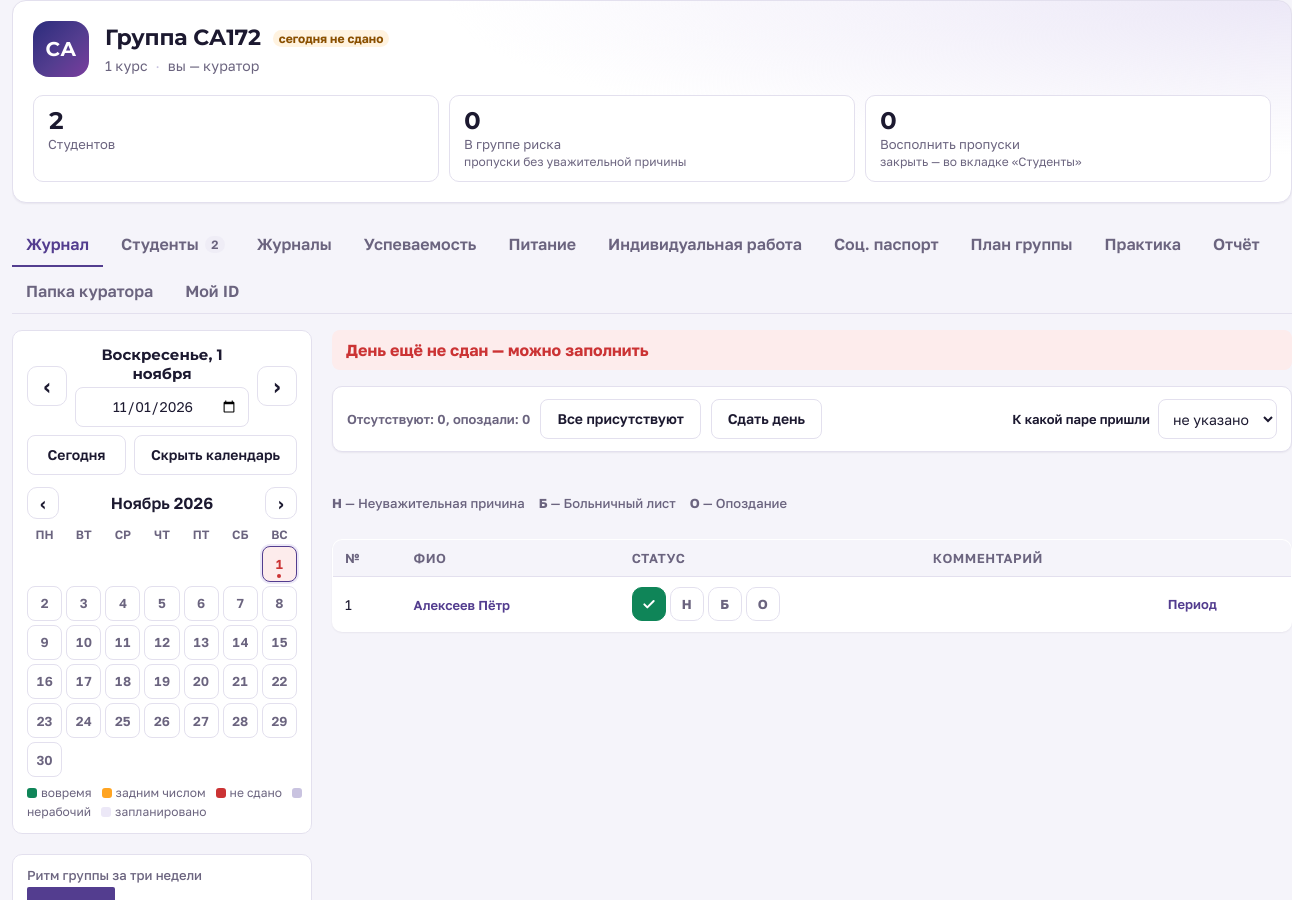
CuratorGroupPage — журнал дня › снятая отметка («Я») убирает студента из отсутствующих
Expected: the link "Алексеев Пётр" is shown, [410,595,514,615]
Click the button "Б": (725, 604) [708,587,742,621]
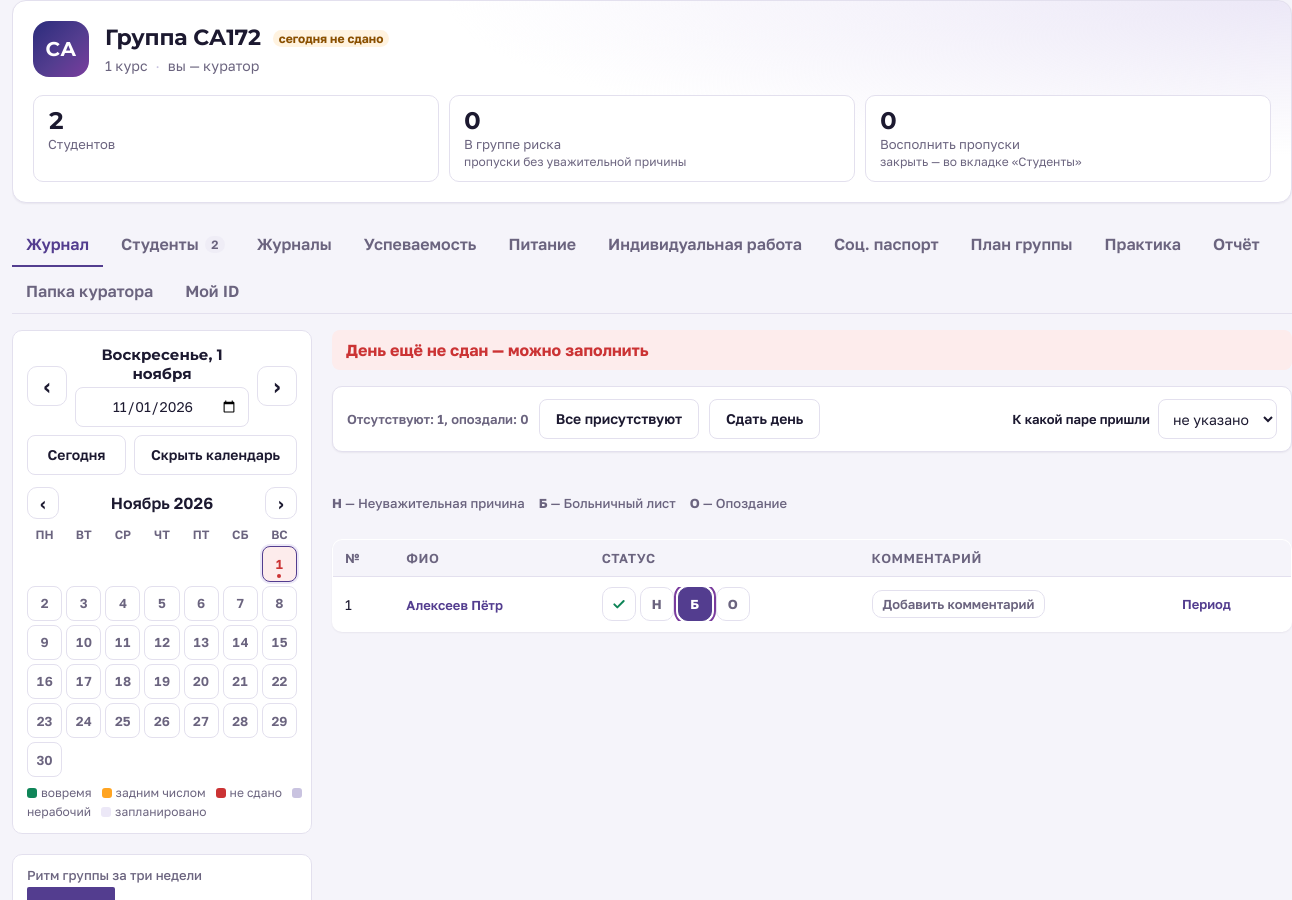
Expected: the text "Отсутствуют: 1, опоздали: 0" is shown, [347,411,529,427]
Click the button named "Присутствует": (619, 604) [602,587,636,621]
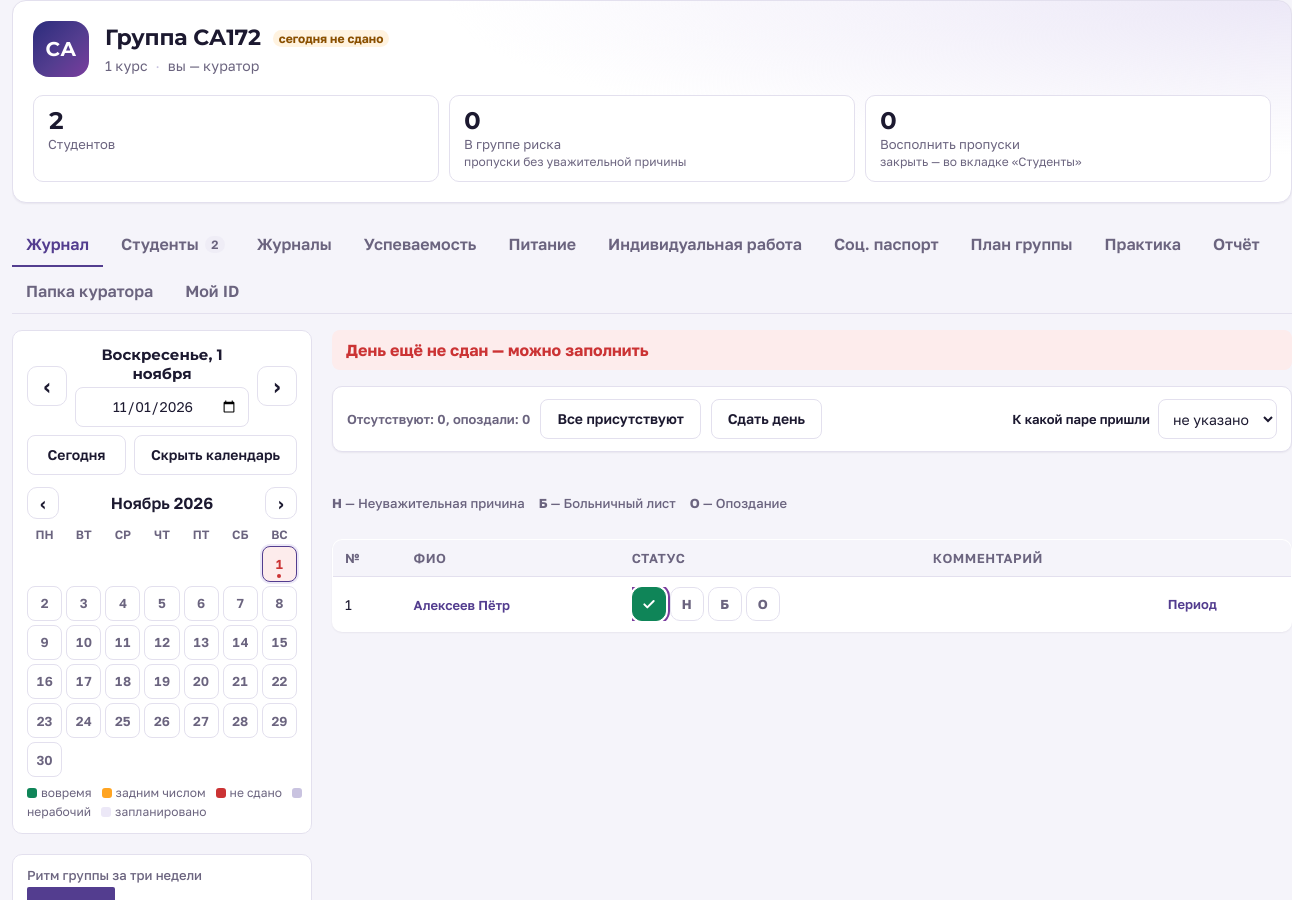
Expected: the text "Отсутствуют: 0, опоздали: 0" is shown, [347,411,530,427]
